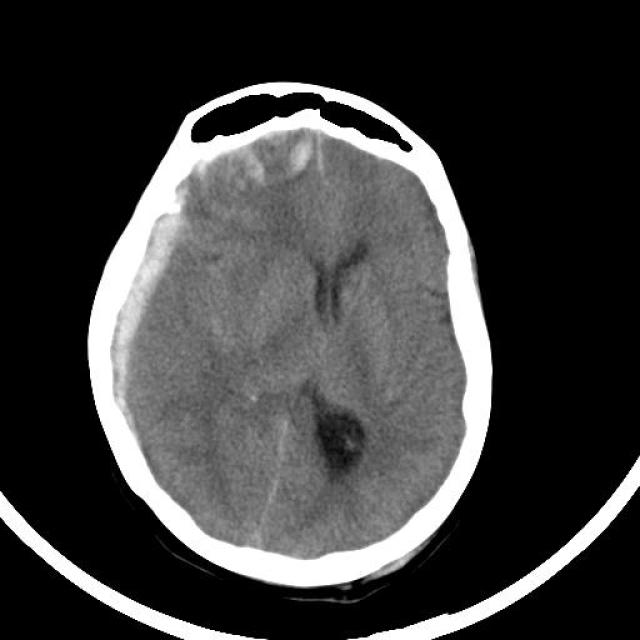Subdural: (62, 155, 210, 463)
